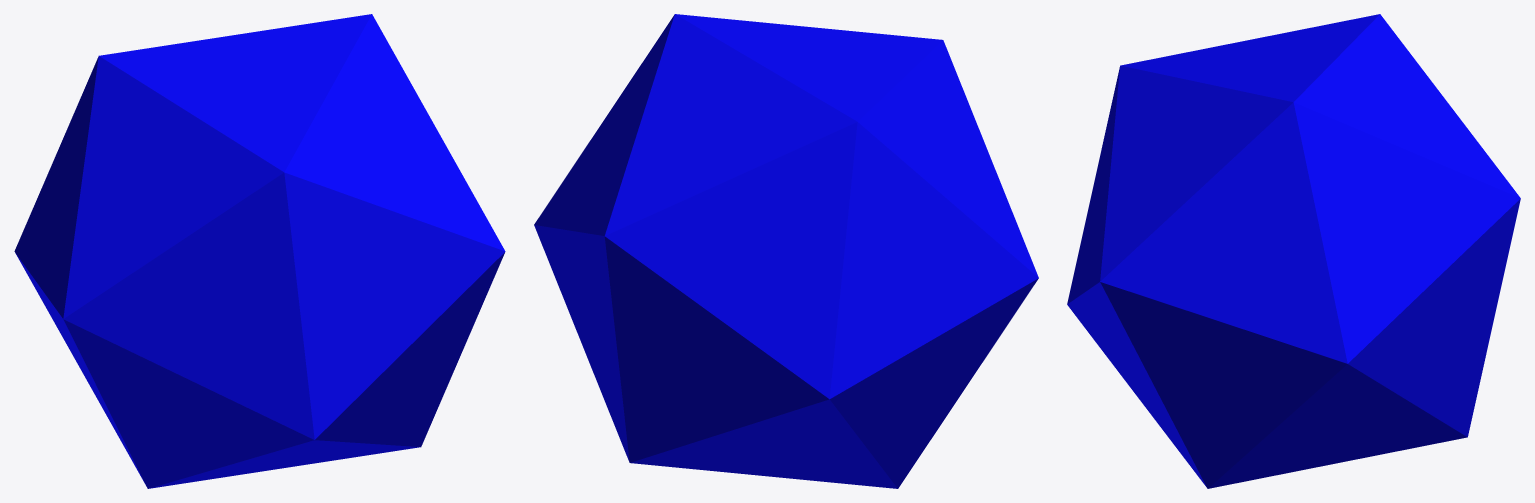
Rendered from Obj_BlueIco.glb.
3 renders of one model, left to right at view 1: azimuth 30°, elevation 25°; view 2: azimuth 150°, elevation 25°; view 3: azimuth 270°, elevation 25°, orthographic. The views are drawn at different scales.
Visible parts, largest first — view 1: Obj_BlueIco; view 2: Obj_BlueIco; view 3: Obj_BlueIco.
Boxes of the visible parts, x1,y1,x2,y2 form: Obj_BlueIco: (14, 14, 505, 488); Obj_BlueIco: (534, 14, 1038, 488); Obj_BlueIco: (1067, 14, 1520, 488).
Bounding box in the file's own units: 0.0782 × 0.0699 × 0.0713.
